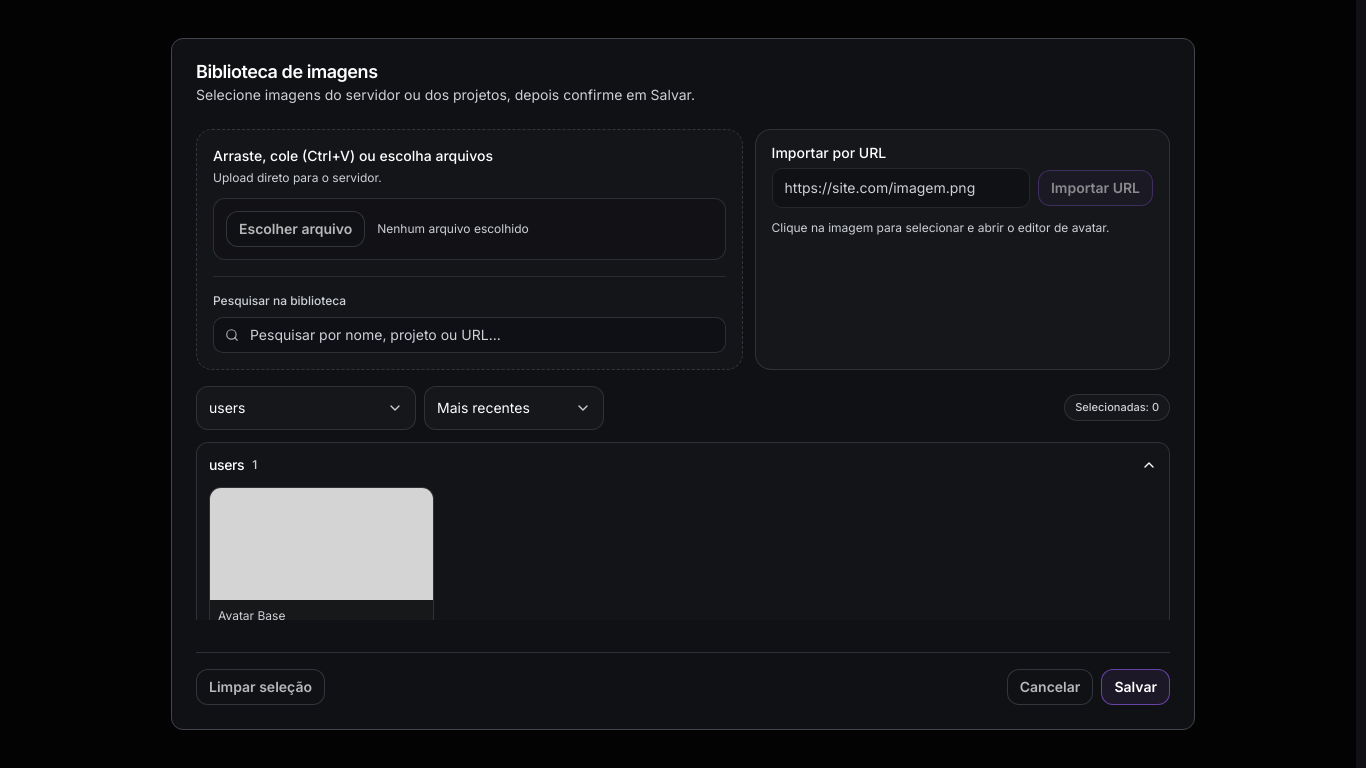
Test: ImageLibraryDialog avatar crop flow › oculta acoes de gestao quando o fluxo de avatar usa permissao limitada
Right-click the button "Avatar Base" at (322, 560), box [209,487,434,633]
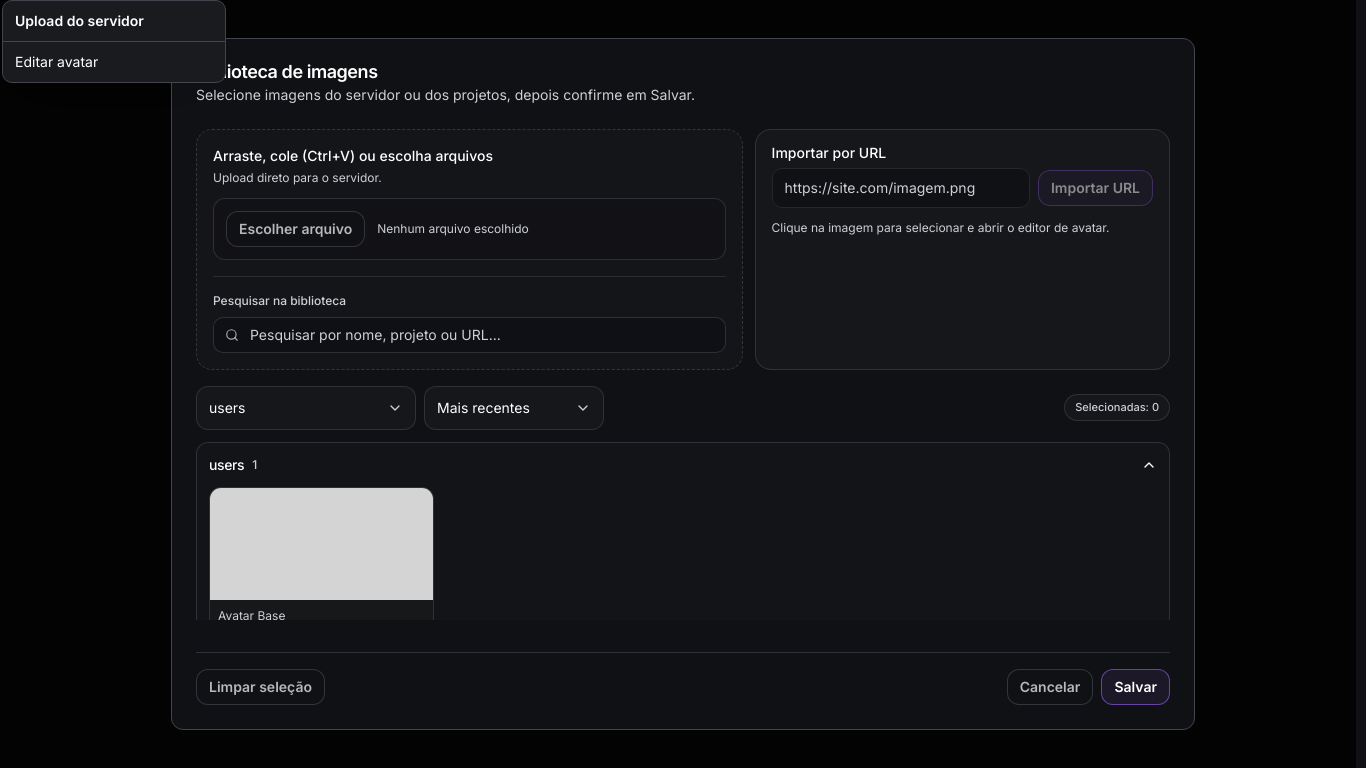
Expected: the menu item "Editar avatar" is shown, [15,53,98,70]
